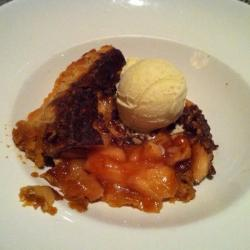apple_pie: (24, 61, 211, 213)
icecream: (112, 59, 191, 138)
